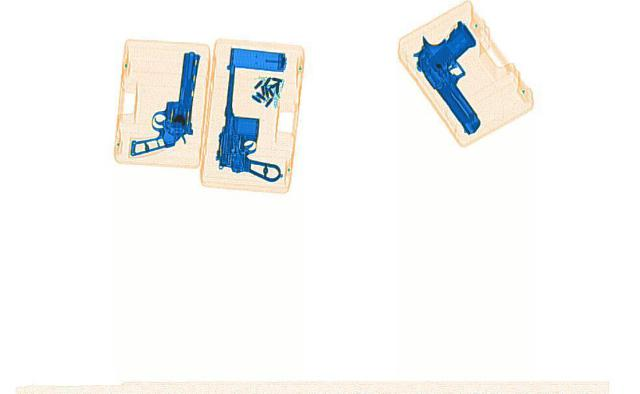Gun: (389, 19, 541, 138), (211, 61, 295, 184), (126, 49, 202, 156)
